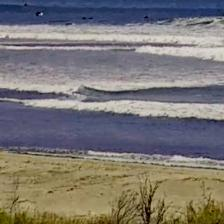surfer: (35, 11, 43, 16), (66, 22, 74, 27), (82, 16, 92, 20), (143, 15, 149, 19), (24, 2, 28, 7)
